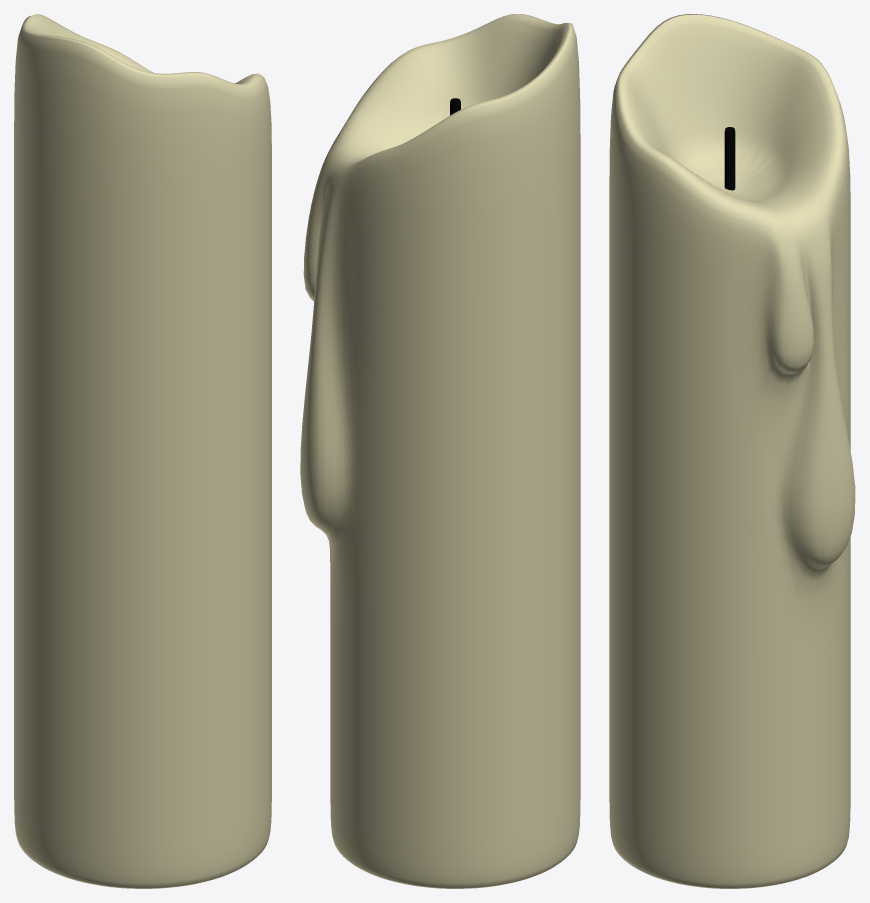
The model's file is Candel.fbx.
3 renders of one model, left to right at view 1: azimuth 30°, elevation 25°; view 2: azimuth 150°, elevation 25°; view 3: azimuth 270°, elevation 25°, orthographic. The views are drawn at different scales.
Parts seen in each view (by area): view 1: Candel; view 2: Candel; view 3: Candel, Wick1.
Boxes of the visible parts, x1=… form: Candel: x1=14, y1=14, x2=271, y2=888; Candel: x1=300, y1=14, x2=580, y2=888; Candel: x1=609, y1=14, x2=855, y2=888; Wick1: x1=724, y1=127, x2=735, y2=190.
Size of the model in its own units: 2.08 by 7.07 by 2.01.
